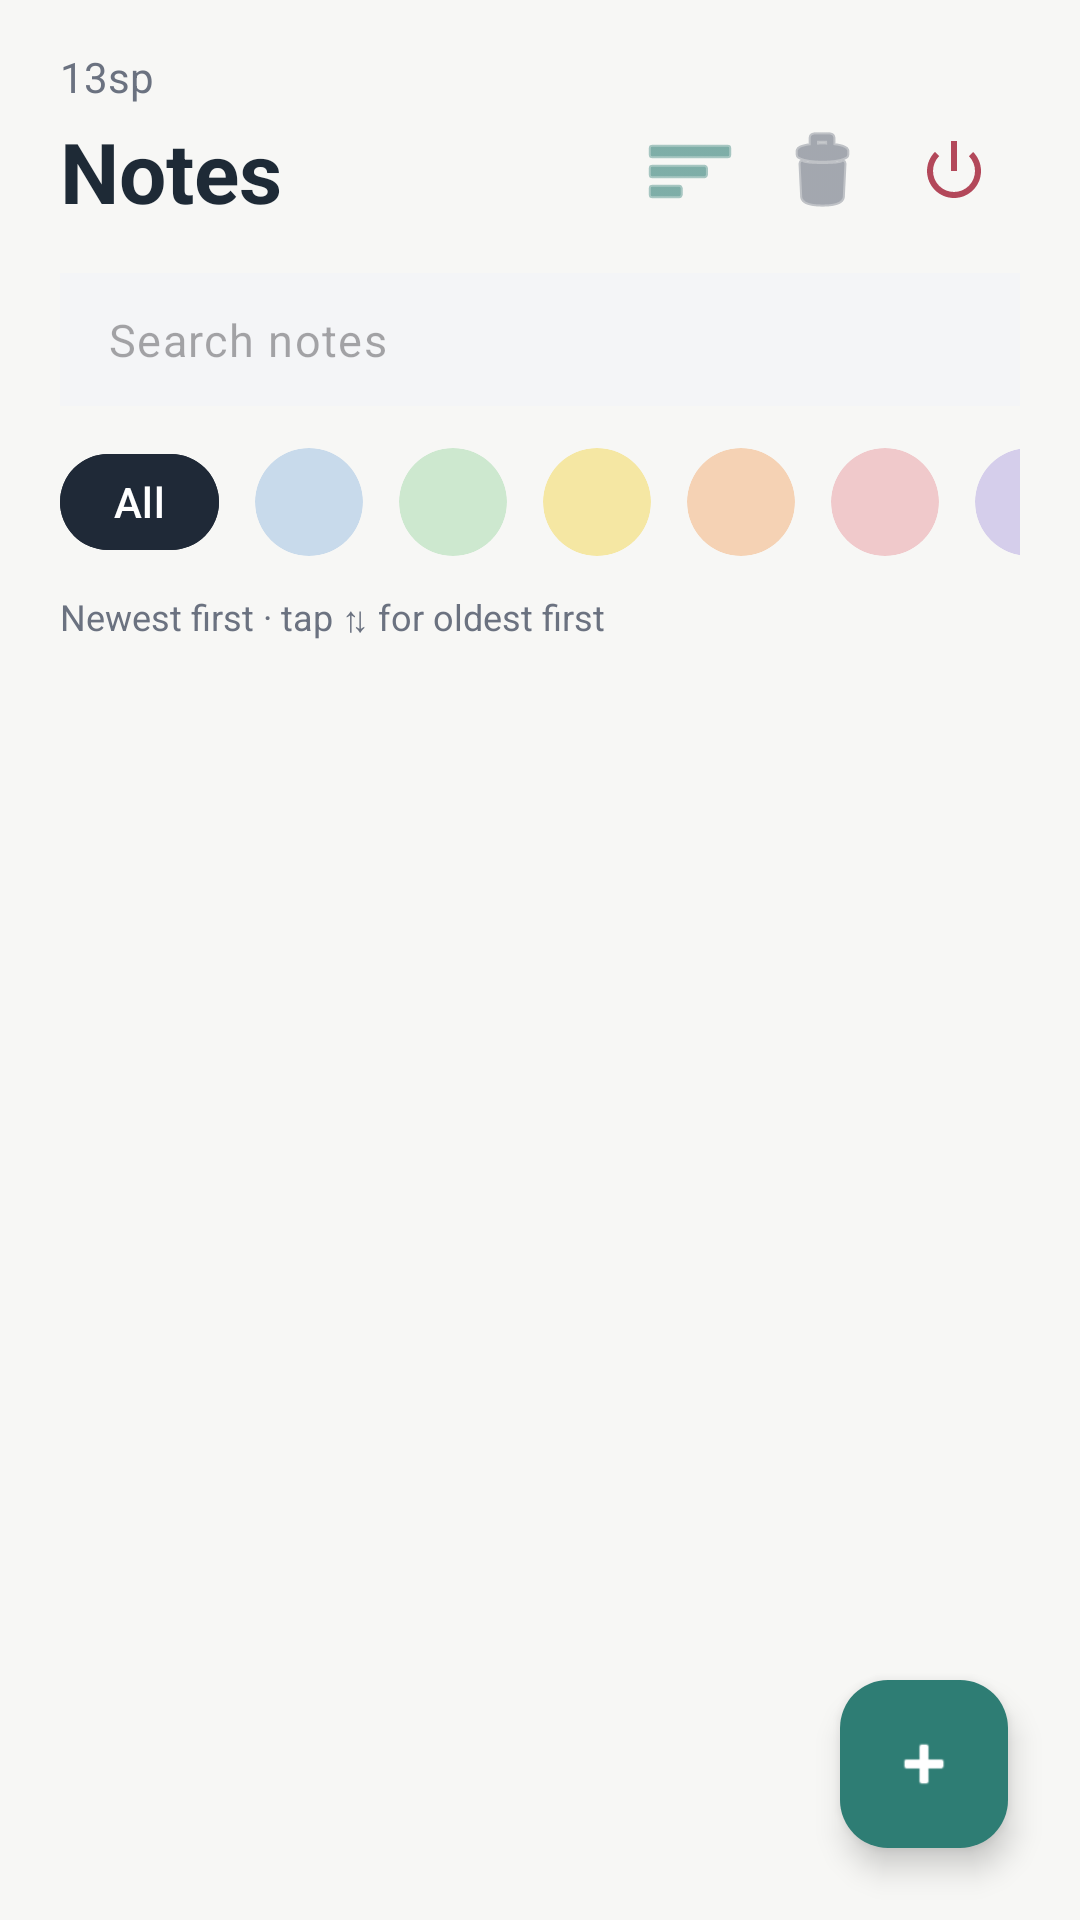

Point at icon controls on the screen. Image size 1080 × 1920, points as (x=x, y=y).
Log out: (x=954, y=169)
New note: (x=924, y=1764)
Sort: (x=690, y=171)
Trash: (x=822, y=169)
